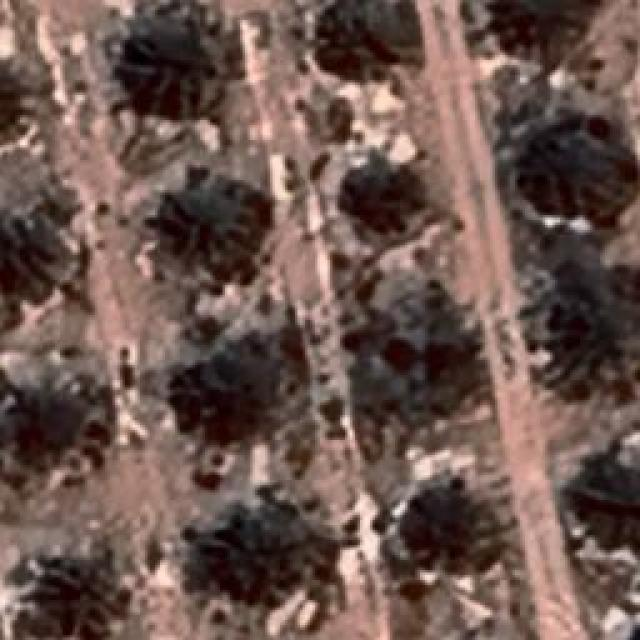PalmTree: (78, 25, 541, 103), (369, 308, 479, 416), (120, 14, 230, 118), (404, 475, 506, 585), (170, 334, 282, 434), (8, 542, 120, 638), (552, 280, 640, 382), (310, 0, 422, 80), (512, 120, 616, 202), (200, 512, 300, 596), (26, 103, 78, 250), (3, 371, 88, 459), (165, 184, 268, 254), (342, 156, 426, 239), (580, 444, 640, 538), (0, 60, 30, 140), (0, 56, 20, 140)
